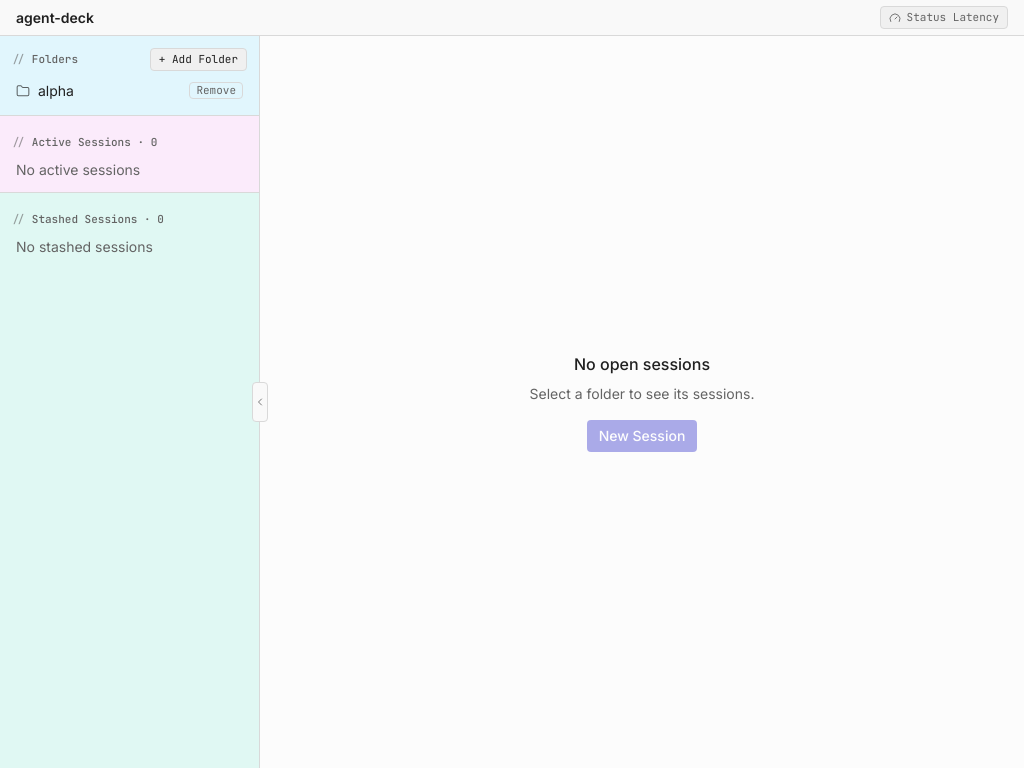
Scenario: robustness (fix round 1) › shows a toast when picking or adding fails
expect the text "alpha" is shown: met, box [38,80,74,100]
Step 1. Click the button "+ Add Folder" → (198, 59), box [150,48,247,70]
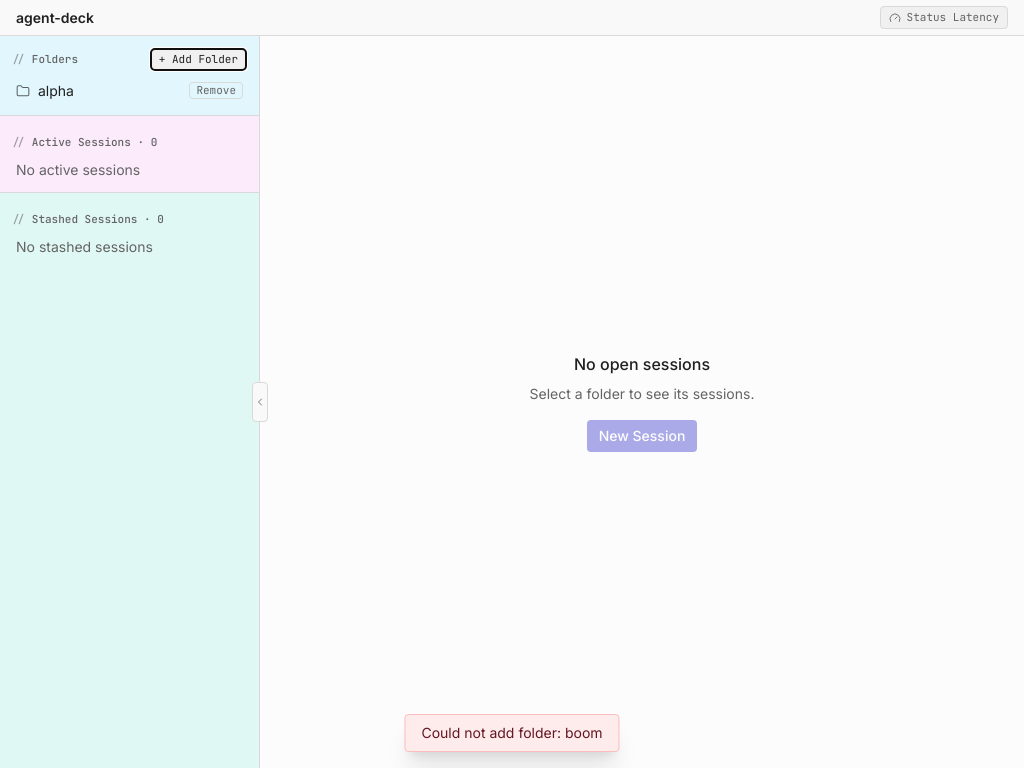
expect the text "Could not add folder: boom" is shown: met, box [404,714,620,752]
